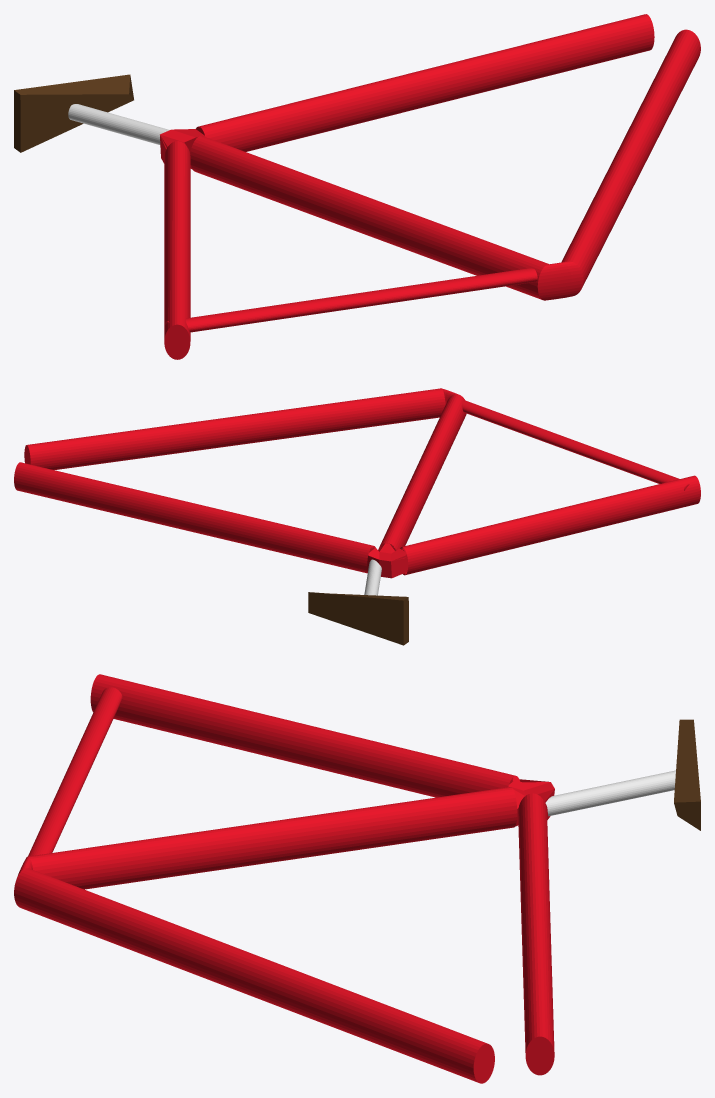
Rendered from Frame.glb.
3 renders of one model, top to bottom at view 1: azimuth 30°, elevation 25°; view 2: azimuth 150°, elevation 25°; view 3: azimuth 270°, elevation 25°, orthographic. The views are drawn at different scales.
Parts seen in each view (by area): view 1: Frame; view 2: Frame; view 3: Frame.
Boxes of the visible parts, box(x1,y1,x2,y2) form: Frame: box(14, 14, 700, 359); Frame: box(14, 388, 700, 645); Frame: box(14, 674, 700, 1083).
Size of the model in its own units: 2.47 by 0.1946 by 1.89.
